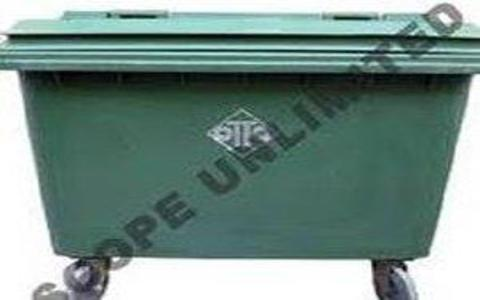Proper garbage: (6, 1, 477, 299)
